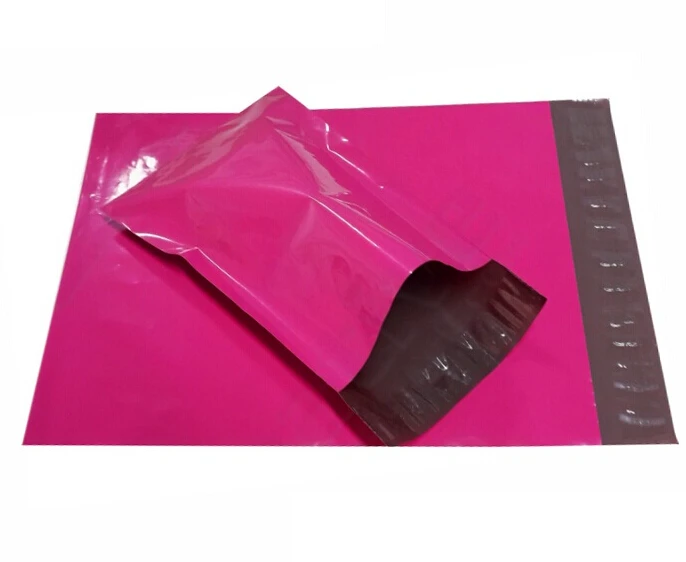Parcel: (25, 88, 676, 447)
